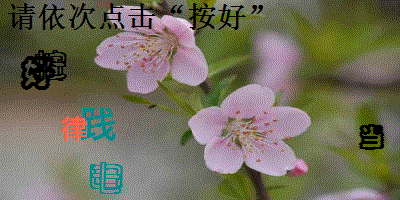result: (185, 1, 248, 32)
text: (78, 105, 119, 144), (87, 159, 125, 197), (19, 56, 52, 91), (36, 50, 67, 81), (59, 114, 88, 143), (358, 122, 386, 152)
